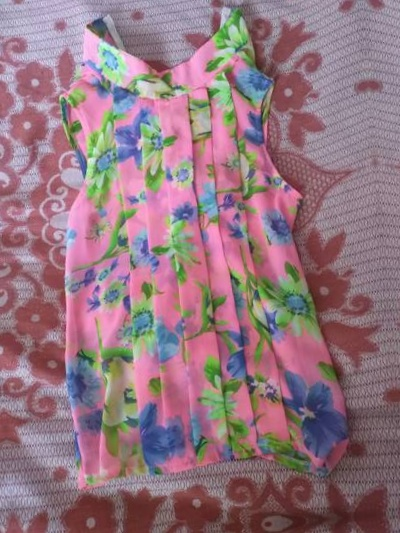Dress: (1, 2, 363, 518)
